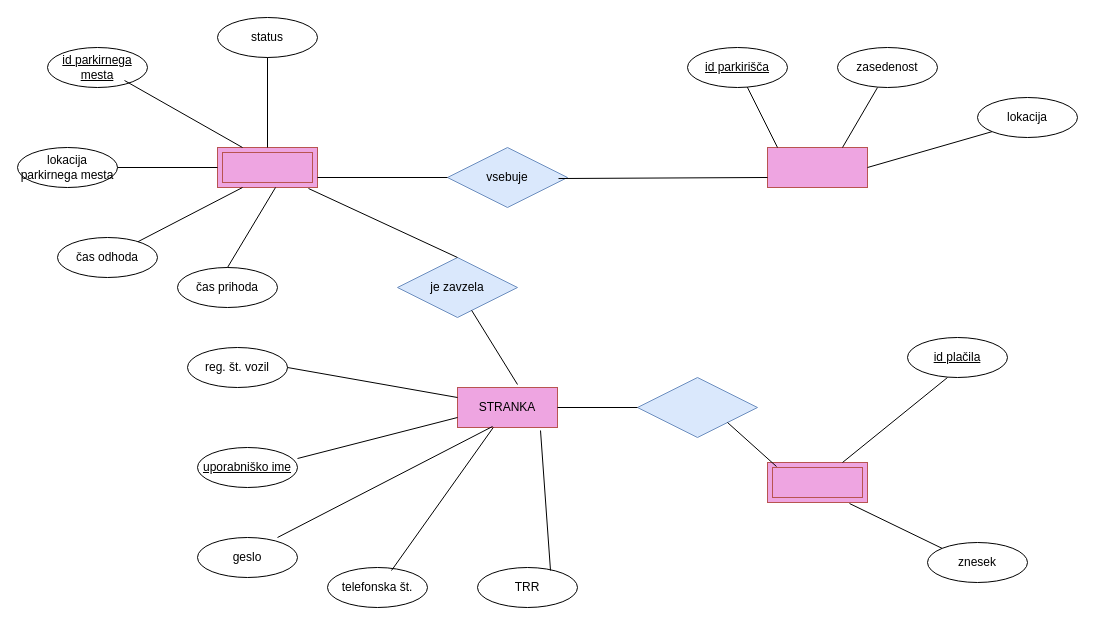
Some shapes in this 1095 by 625 pixel diagram are drawn without their labels. Each missing label, with the centre of its shape:
je plačala: pixel 697 407
PARKIRIŠČE: pixel 817 167
PARKIRNO MESTO: pixel 267 167
RAČUN: pixel 817 482
